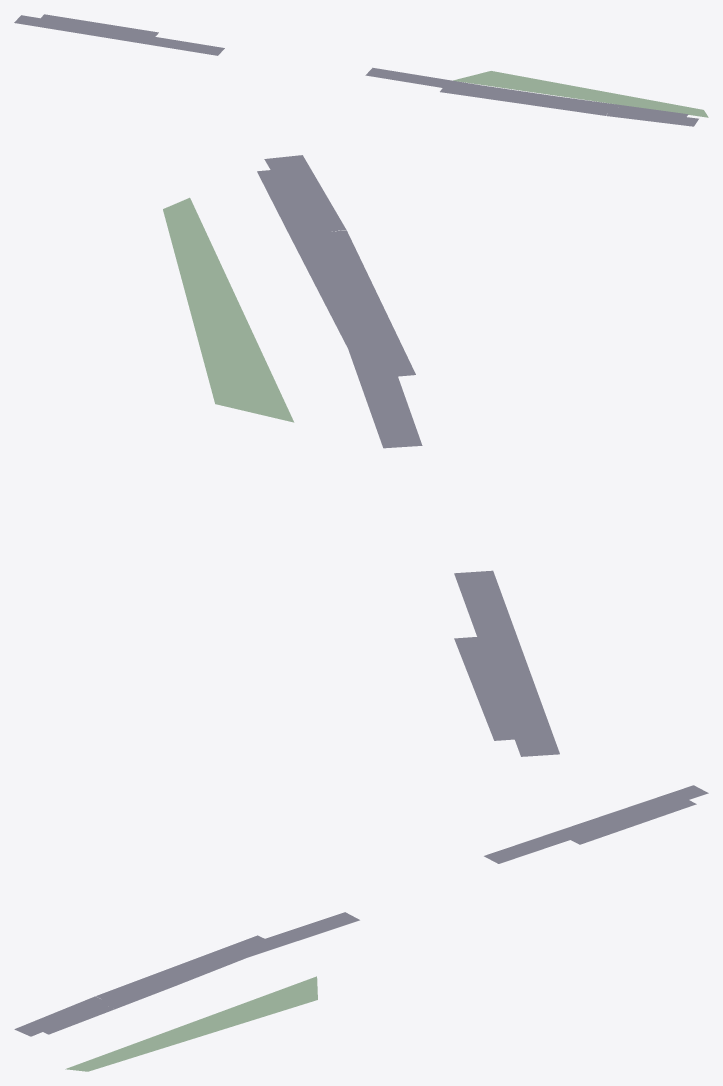
File: 151_112_mid.glb
3 renders of one model, top to bottom at view 1: azimuth 30°, elevation 25°; view 2: azimuth 150°, elevation 25°; view 3: azimuth 270°, elevation 25°, orthographic. The views are drawn at different scales.
Size of the model in its own units: 233 by 8.04 by 256.
